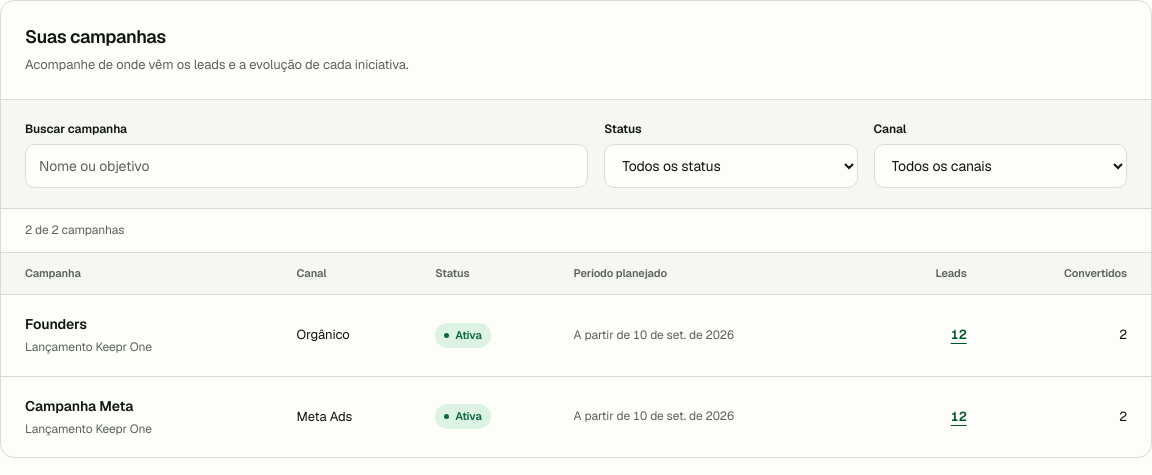
Test: filters campaigns by channel and restores the list from an empty search
Select "Meta Ads" in the dropdown labelled "Canal" at [1000, 166], box [874,144,1127,188]
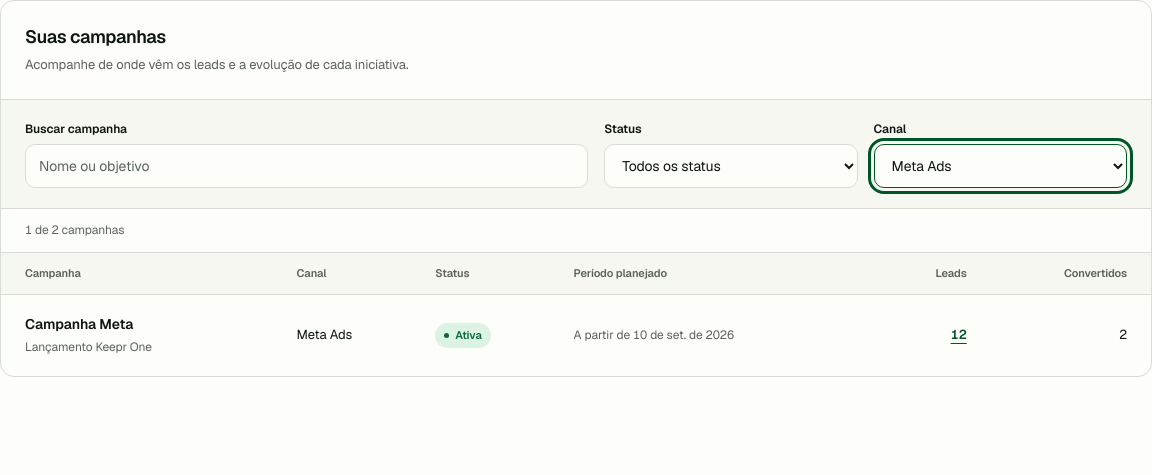
Expected: the link "Campanha Meta" is shown, [25,313,133,335]
Expected: the link "Founders" is gone
Type "inexistente" into the search field labelled "Buscar campanha" at [307, 166], box [25,144,588,188]
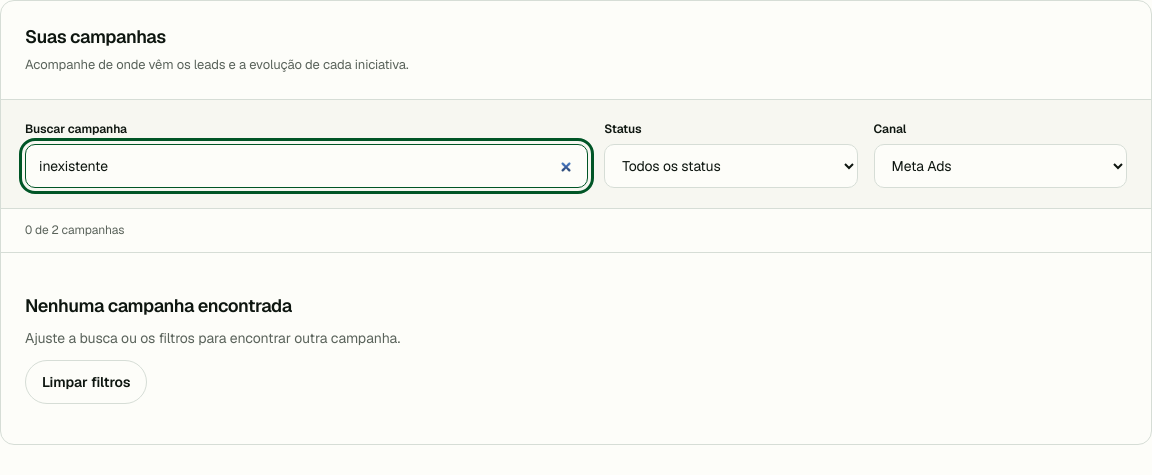
Expected: the heading "Nenhuma campanha encontrada" is shown, [25,293,292,318]
Click the button "Limpar filtros" at [86, 382], box [25,360,147,404]
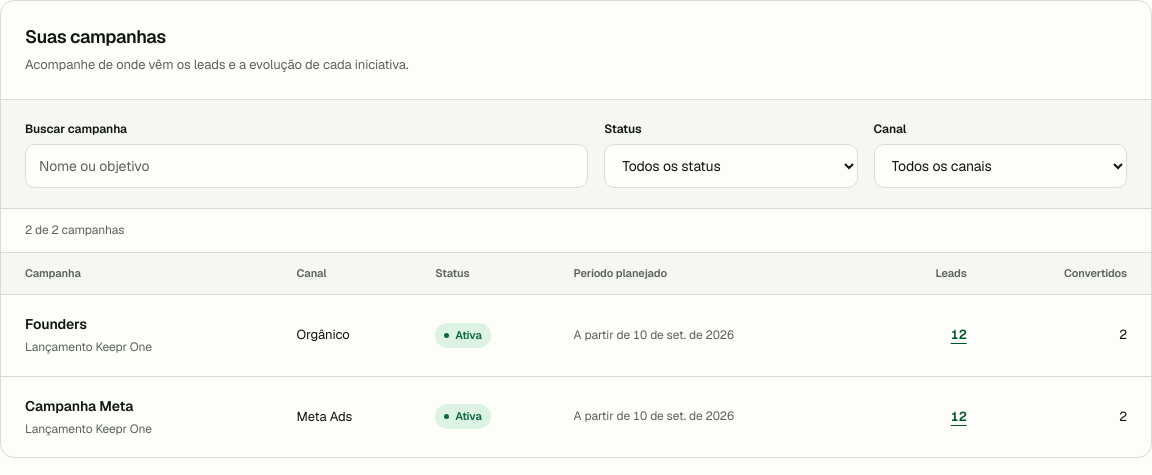
Expected: the link "Founders" is shown, [25,313,87,335]
Expected: the link "Campanha Meta" is shown, [25,394,133,417]
